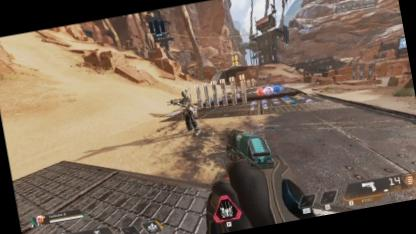Target: (178, 88, 199, 131)
